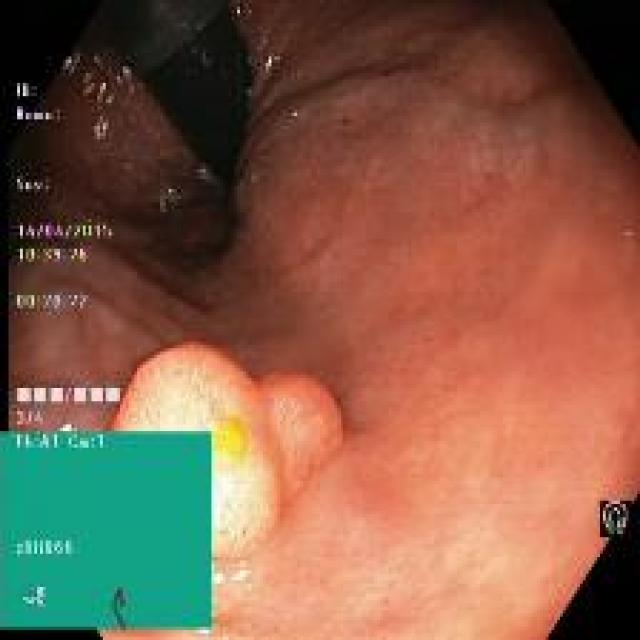Polyps: (112, 344, 342, 560)
